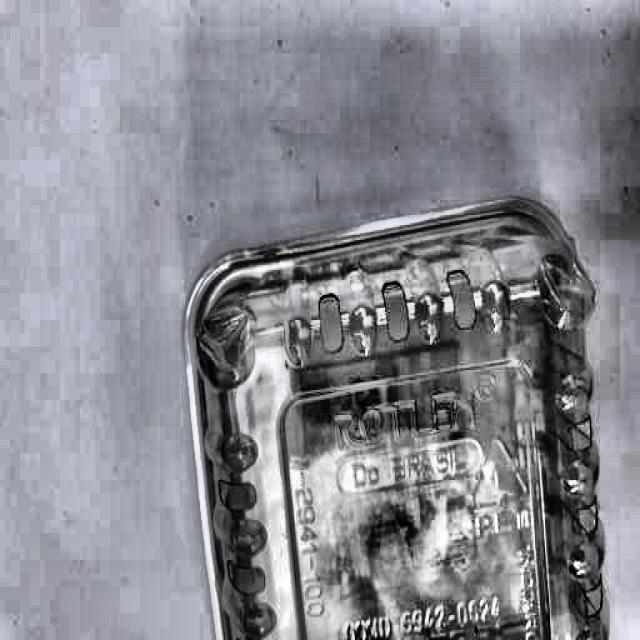plastic: (180, 200, 620, 640)
